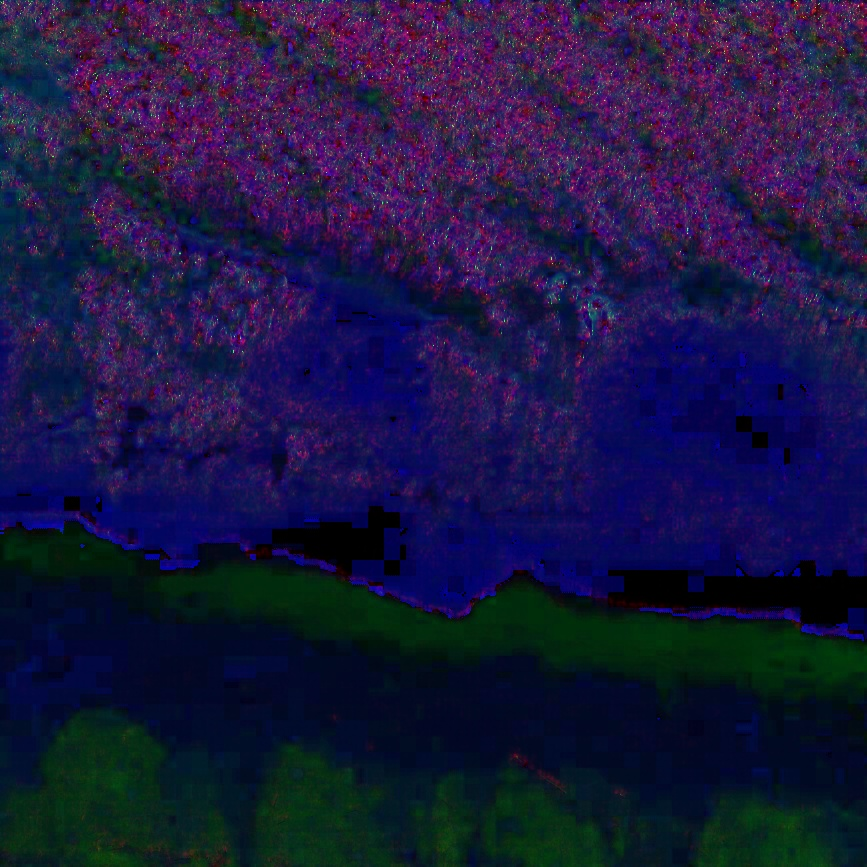rip_current: (370, 232, 634, 550)
